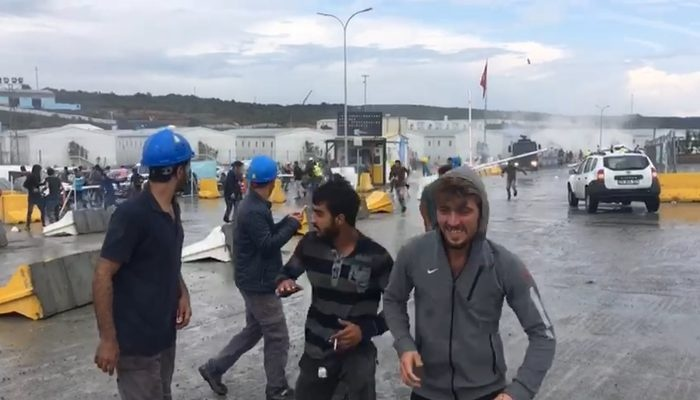blue: (140, 129, 193, 191), (246, 154, 278, 196)
none: (425, 168, 489, 246), (311, 179, 360, 237)
